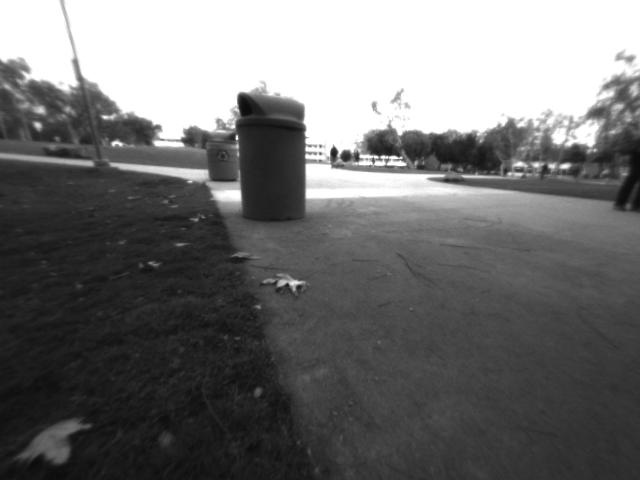trashcan: (234, 90, 310, 226)
